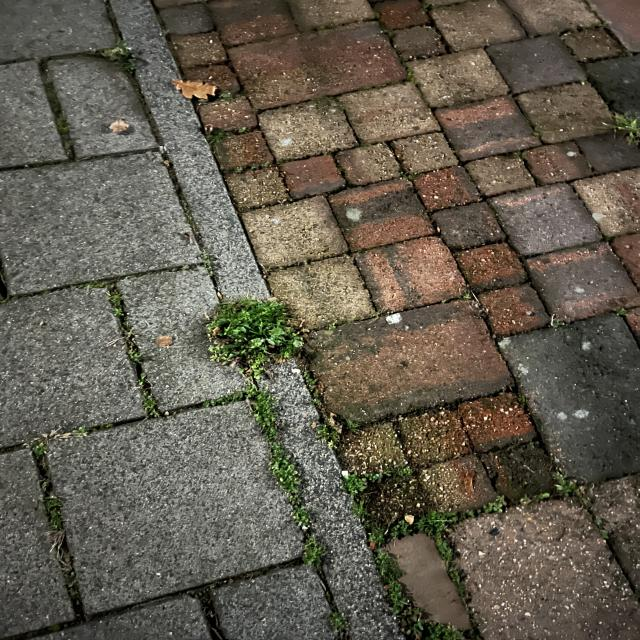leaves: (172, 70, 216, 108)
pavement: (235, 2, 601, 283), (0, 0, 247, 289), (348, 269, 640, 447), (88, 428, 263, 633), (80, 171, 234, 247)
weedling: (204, 293, 337, 582), (105, 284, 159, 420)
